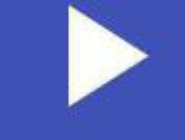ImgButton: (1, 1, 184, 139)
